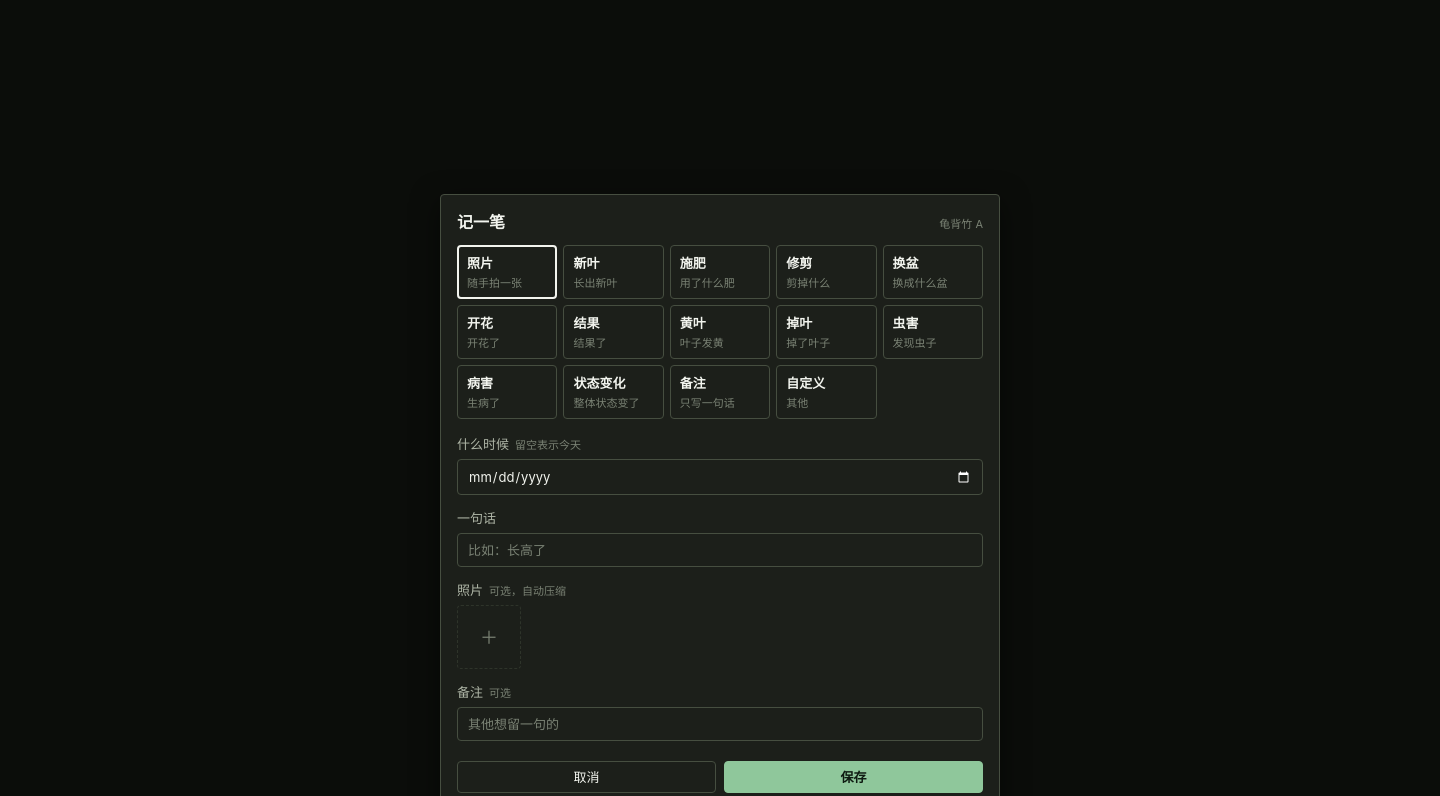
Test: 类型选择驱动表单变形 › 换盆不显示「详细情况」，换病虫害才显示
Step 1. Click the radio button labelled "换盆 换成什么盆" → coordinates (933, 272), box [883,245,983,299]
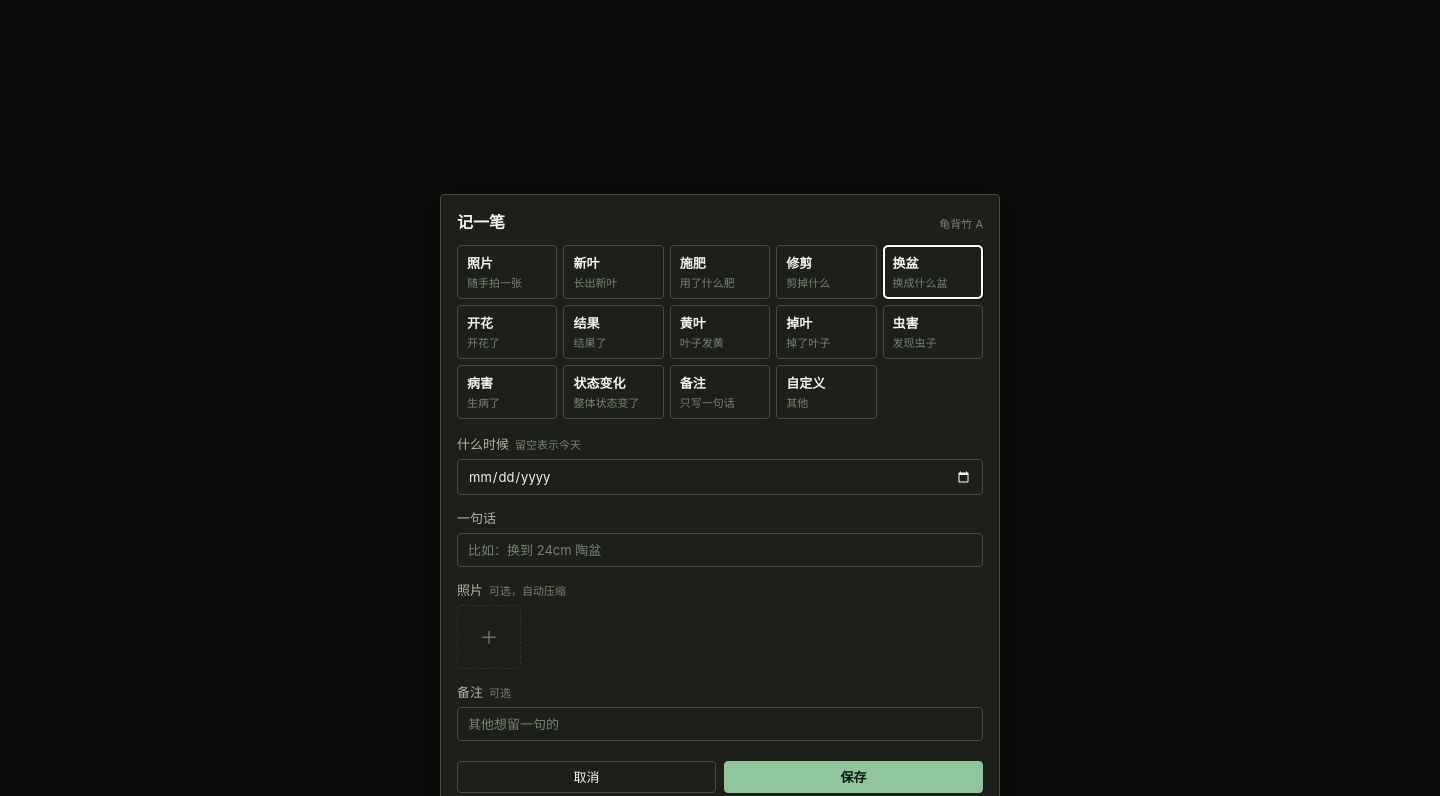
Expected: the field labelled "详细情况" is not shown
Step 2. Click the radio button labelled "病害 生病了" → coordinates (507, 392), box [457,365,557,419]
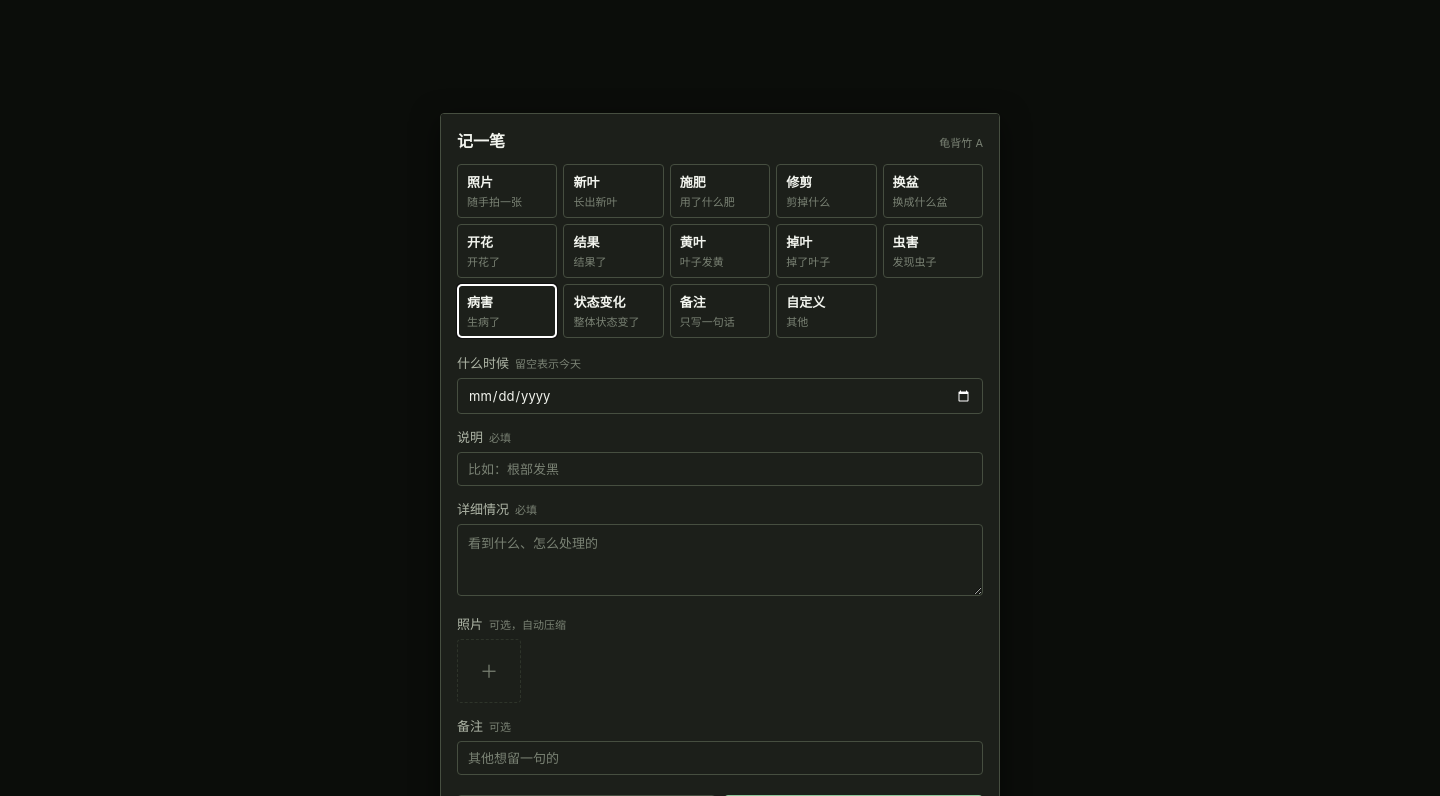
Now the text box named "详细情况" is shown, box [457,524,983,596]
